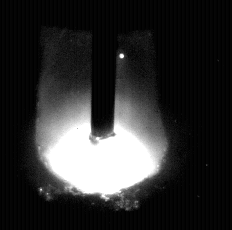arame: (91, 0, 116, 145)
poca: (35, 0, 169, 230)
